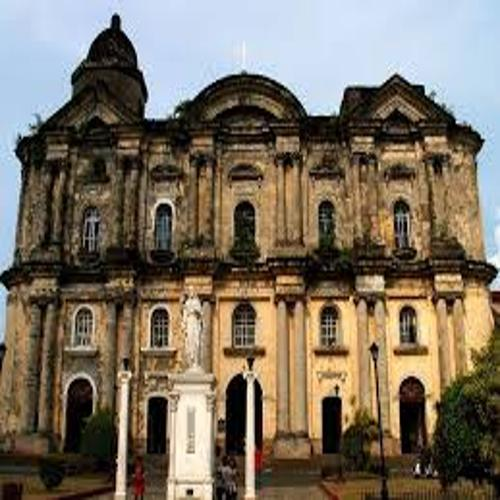Taal Basilica Church: (4, 8, 500, 464)
